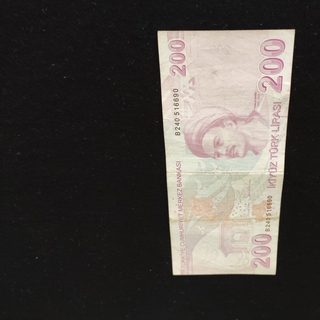200TLBack: (156, 28, 295, 275)
